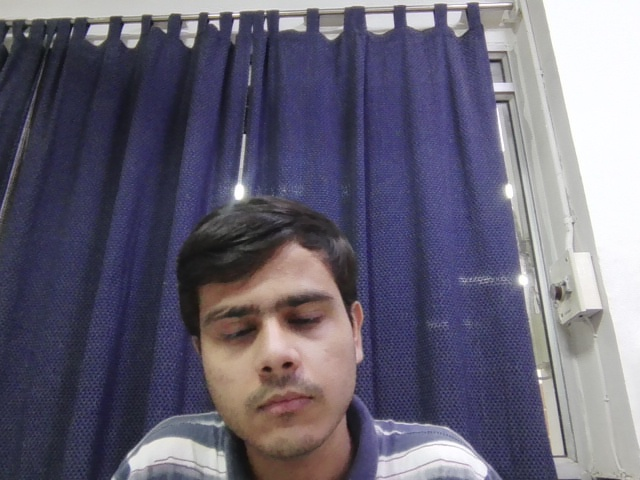face: (179, 203, 365, 457)
